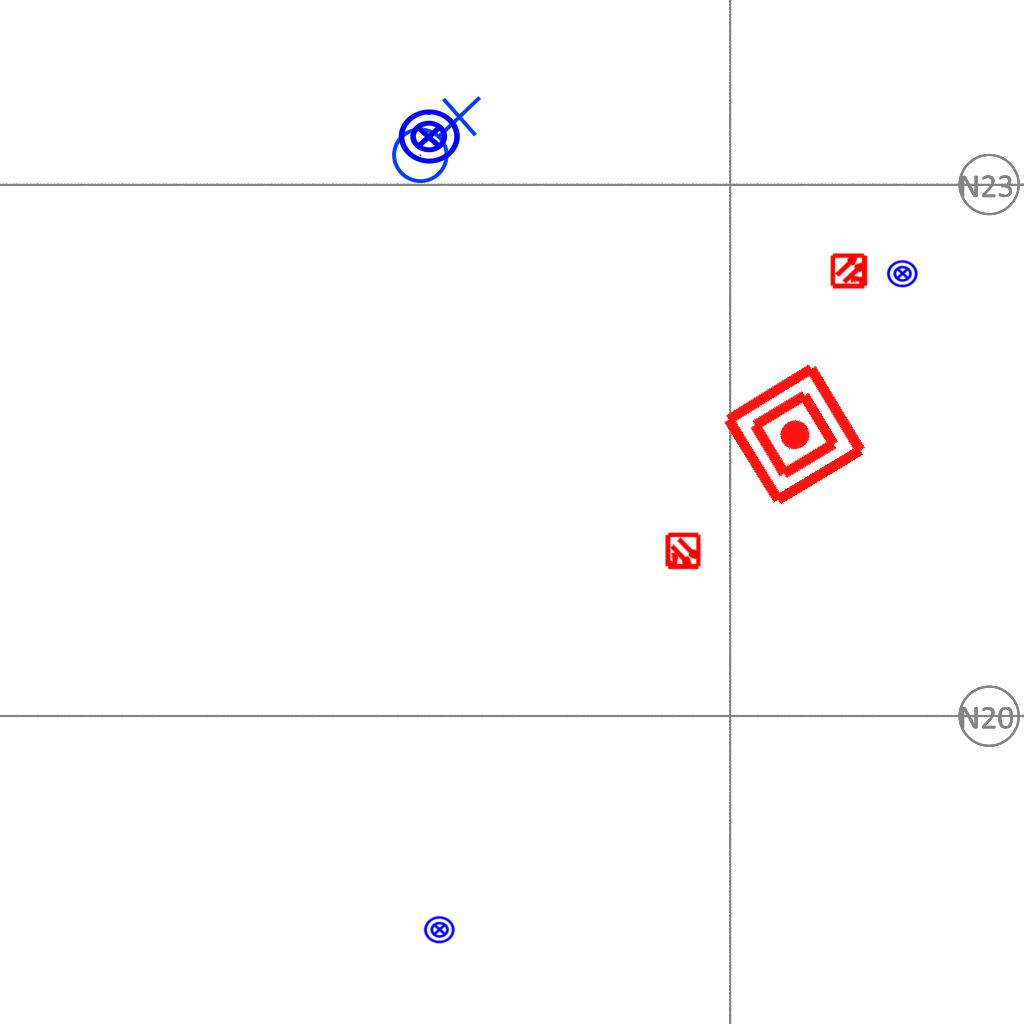Elektroanschluss_allgemein_230V_Geraeteanschlussdose_230V: (383, 91, 482, 185)
NAM-Nichtautomatischer_Melder: (716, 356, 873, 513)
OT_Multisensormelder_(Kombination_RMO_WMD): (655, 524, 711, 580), (822, 243, 878, 299)
Taster_beleuchtet: (396, 104, 462, 170), (886, 257, 919, 290), (423, 913, 456, 946)
